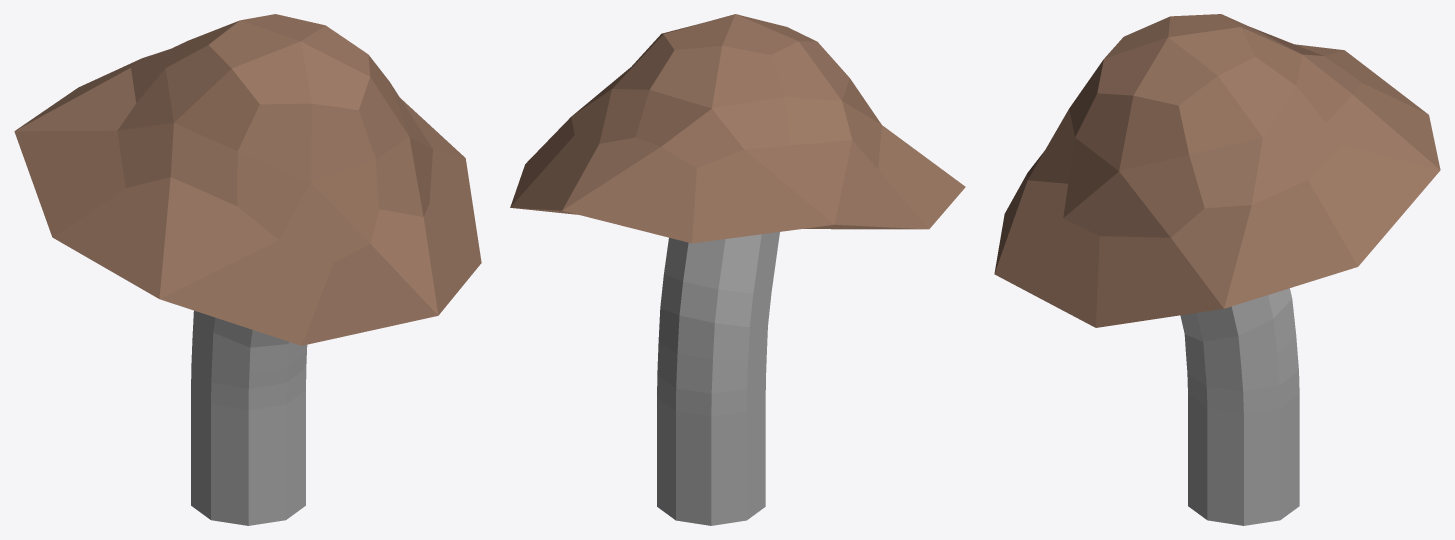
File: MushroomBrown.fbx
The picture shows the model from 3 angles, left to right: view 1: azimuth 30°, elevation 25°; view 2: azimuth 150°, elevation 25°; view 3: azimuth 270°, elevation 25°; orthographic projection. The views are drawn at different scales.
Parts seen in each view (by area): view 1: pPlatonic2, pCylinder3; view 2: pPlatonic2, pCylinder3; view 3: pPlatonic2, pCylinder3.
Part boxes in pixels (x1,y1,x2,y2): pPlatonic2: [14, 14, 481, 345]; pCylinder3: [191, 310, 307, 525]; pPlatonic2: [510, 14, 965, 243]; pCylinder3: [657, 232, 779, 525]; pPlatonic2: [994, 14, 1440, 327]; pCylinder3: [1180, 288, 1299, 525].
Size of the model in its own units: 3.34 by 3.68 by 3.16.
